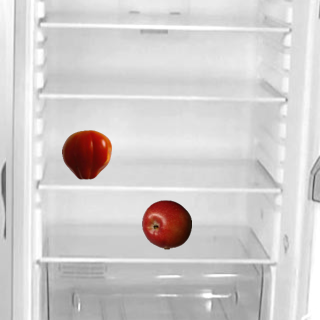Apple Braeburn: (141, 199, 191, 249)
Tomato 1: (61, 129, 111, 179)
